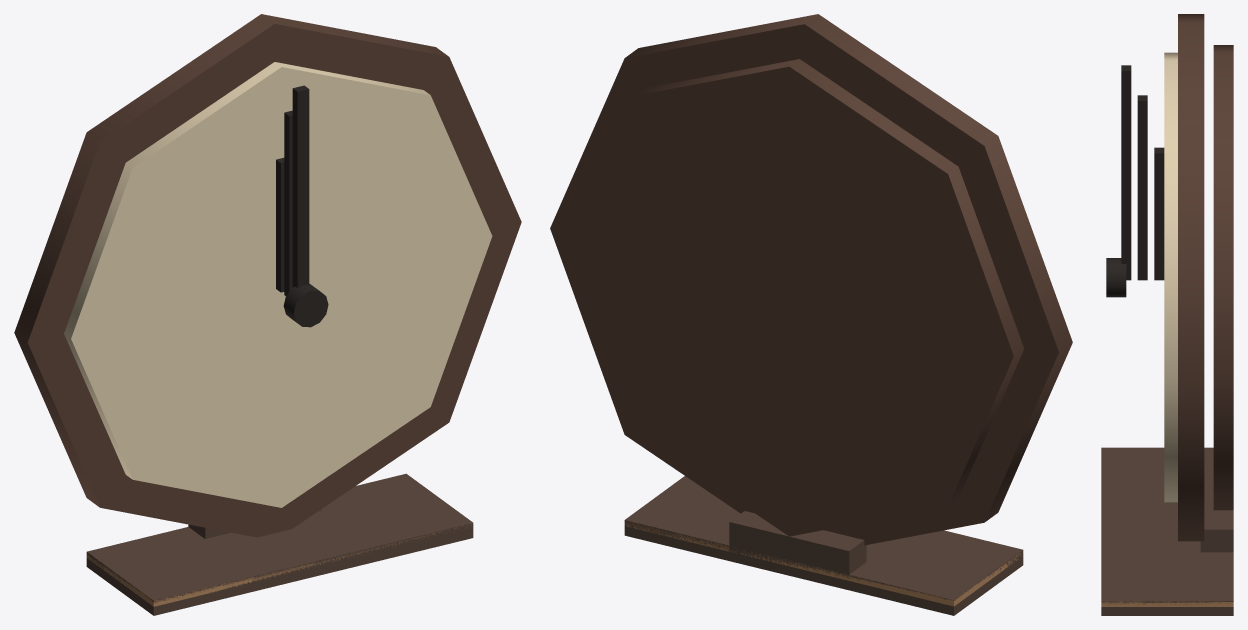
3 renders of one model, left to right at view 1: azimuth 30°, elevation 25°; view 2: azimuth 150°, elevation 25°; view 3: azimuth 270°, elevation 25°, orthographic. The views are drawn at different scales.
Parts seen in each view (by area): view 1: clock-face, clock-octagon-bezel, clock-base, clock-second-hand, clock-minute-hand, clock-base-trim, clock-center-cap, clock-hour-hand; view 2: clock-back, clock-octagon-bezel, clock-base, clock-display-support, clock-base-trim; view 3: clock-base, clock-octagon-bezel, clock-back, clock-face, clock-second-hand, clock-minute-hand, clock-display-support, clock-hour-hand, clock-center-cap, clock-base-trim.
Part boxes in pixels (bbox=[...]): clock-face: bbox=[64, 62, 492, 507]; clock-octagon-bezel: bbox=[14, 14, 521, 537]; clock-base: bbox=[86, 473, 473, 615]; clock-second-hand: bbox=[292, 85, 309, 287]; clock-minute-hand: bbox=[284, 110, 292, 295]; clock-base-trim: bbox=[86, 523, 472, 606]; clock-center-cap: bbox=[283, 283, 328, 327]; clock-hour-hand: bbox=[276, 157, 284, 292]; clock-back: bbox=[565, 59, 1024, 536]; clock-octagon-bezel: bbox=[550, 14, 1072, 545]; clock-base: bbox=[624, 476, 1023, 615]; clock-display-support: bbox=[729, 511, 866, 577]; clock-base-trim: bbox=[625, 520, 1022, 606]; clock-base: bbox=[1101, 447, 1233, 615]; clock-octagon-bezel: bbox=[1178, 14, 1204, 541]; clock-back: bbox=[1213, 45, 1233, 510]; clock-face: bbox=[1164, 52, 1177, 502]; clock-second-hand: bbox=[1121, 65, 1131, 280]; clock-minute-hand: bbox=[1137, 95, 1147, 280]; clock-display-support: bbox=[1200, 474, 1233, 552]; clock-hour-hand: bbox=[1154, 147, 1164, 280]; clock-center-cap: bbox=[1106, 258, 1126, 297]; clock-base-trim: bbox=[1101, 601, 1233, 606].
Size of the model in its own units: 0.34 by 0.345 by 0.08.
